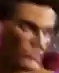kevin: (1, 3, 45, 65)
